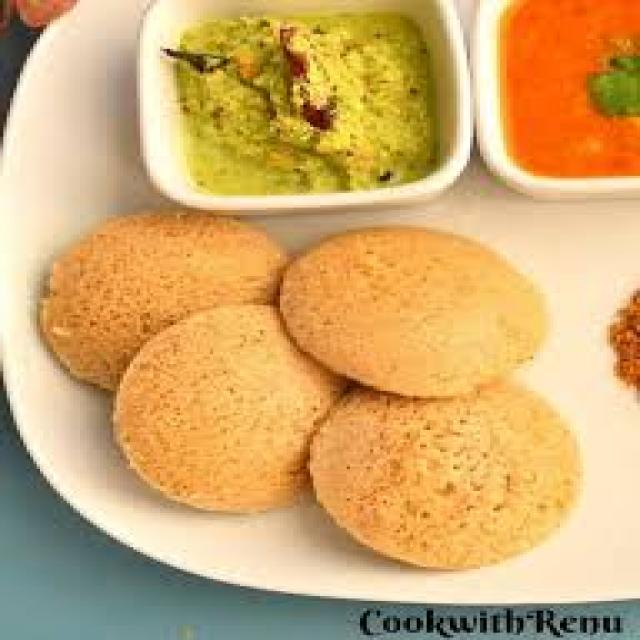Wet Waste: (117, 300, 370, 518), (310, 369, 583, 571), (43, 208, 307, 400), (273, 218, 540, 394), (180, 22, 413, 171)
